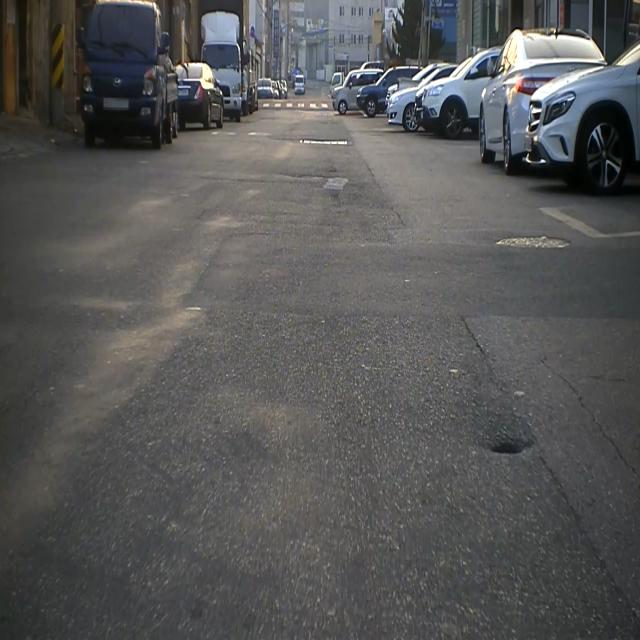Pothole: (473, 420, 541, 474)
